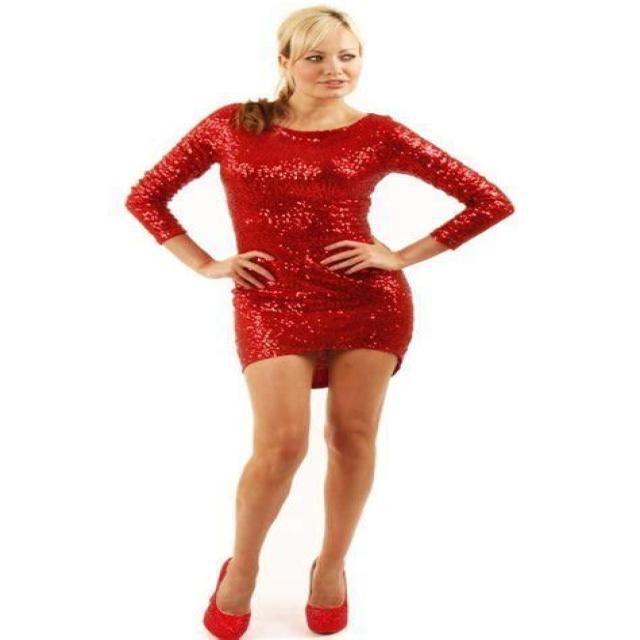dress: (122, 101, 515, 388)
